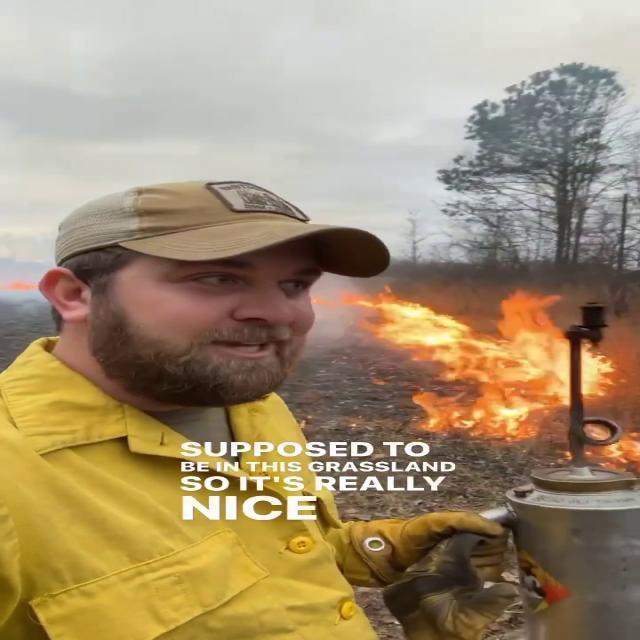Fire: (332, 282, 628, 436)
